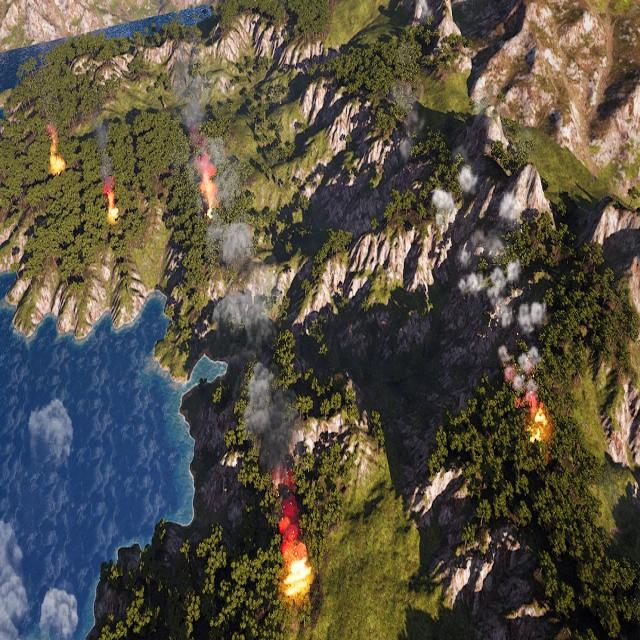fire: (282, 556, 311, 598), (200, 168, 218, 211), (529, 403, 548, 442), (51, 129, 66, 172), (106, 188, 118, 218)
smoke: (172, 48, 310, 552), (435, 149, 552, 407), (0, 513, 79, 640), (28, 394, 74, 466), (393, 83, 428, 165), (91, 116, 112, 195)
